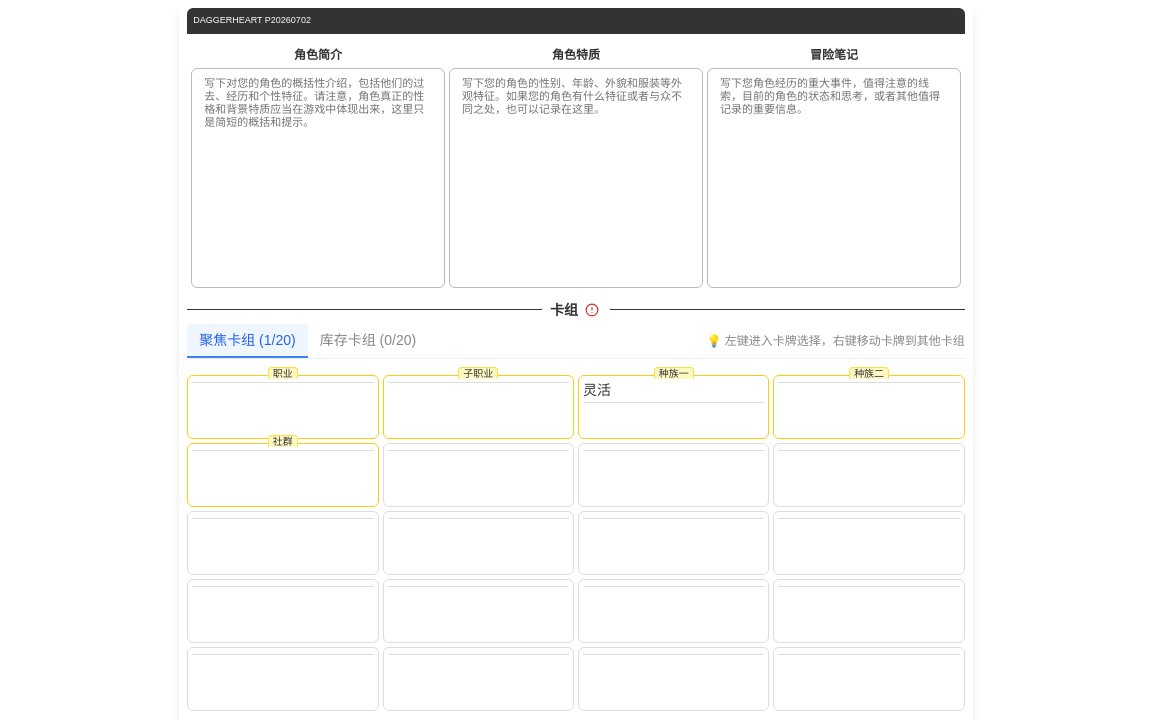
it: CharacterSheet equipment fields › dismisses the manually opened audit dialog without repairing stale selected ancestry cards
The width and height of the screenshot is (1152, 720).
Click the button named "更新卡牌，有可更新项目" at (592, 310), box left=582, top=300, right=602, bottom=320
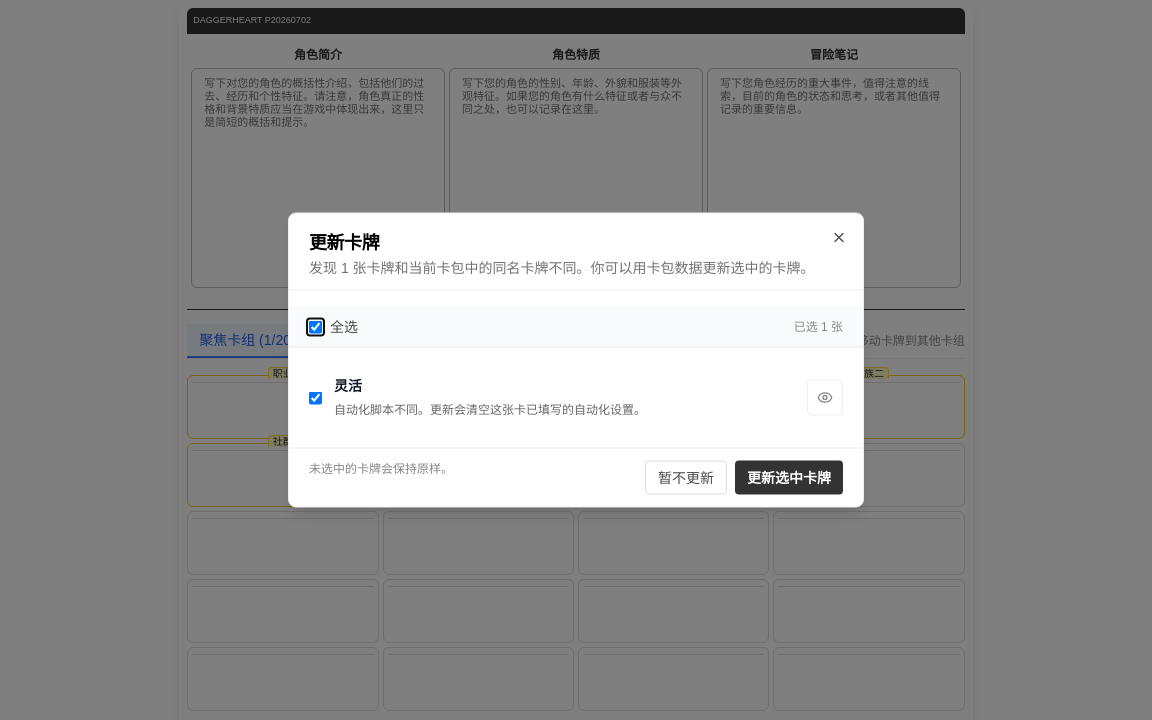
Click the button "暂不更新" at (686, 478), box left=645, top=460, right=727, bottom=494
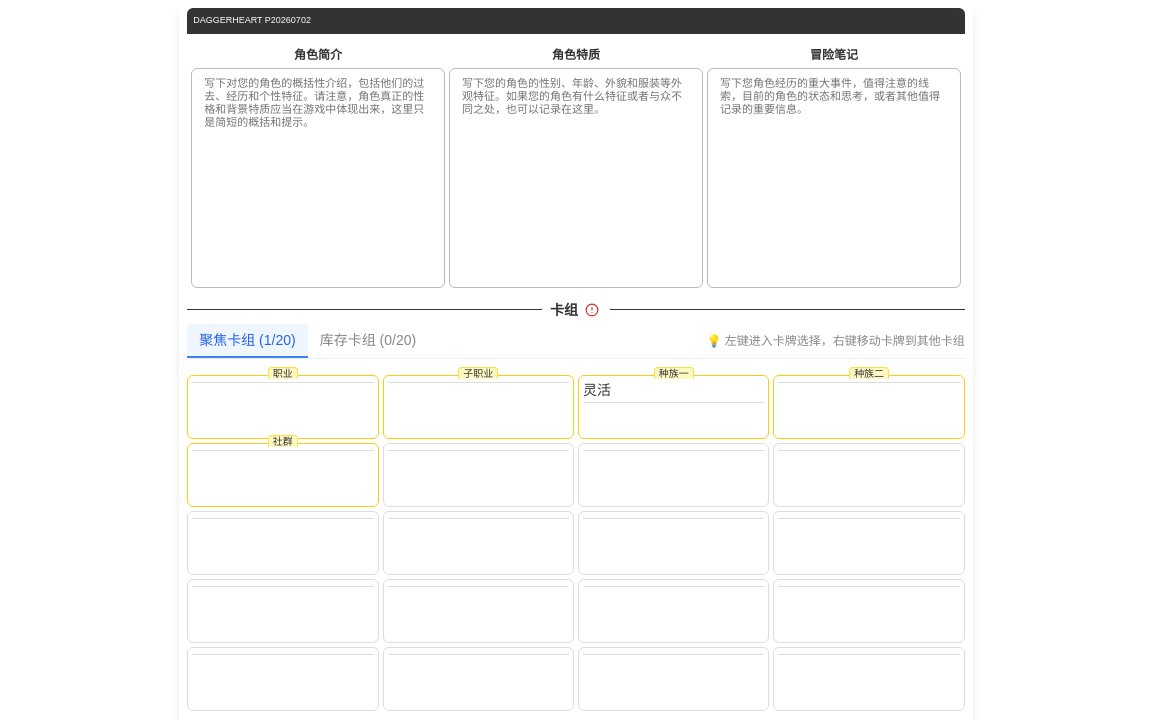
Check: the heading "更新卡牌" is gone
